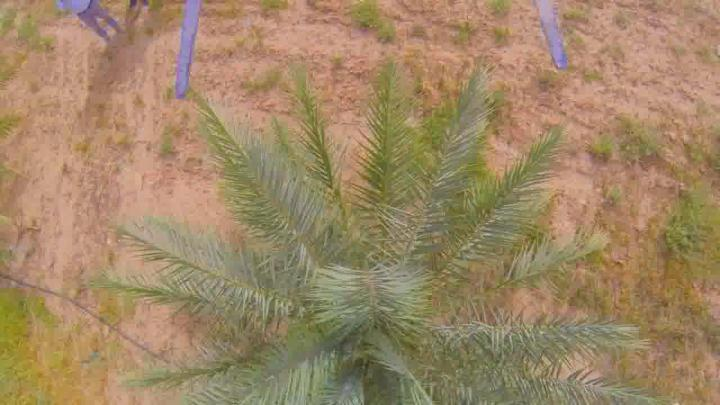Date-Palm-Crown: (258, 193, 506, 405)
